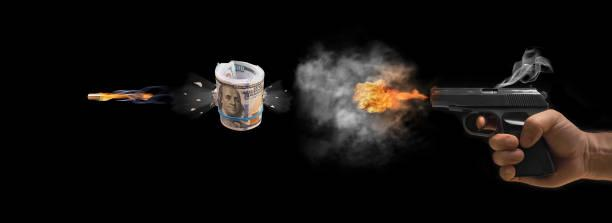weapon: (429, 81, 560, 180)
